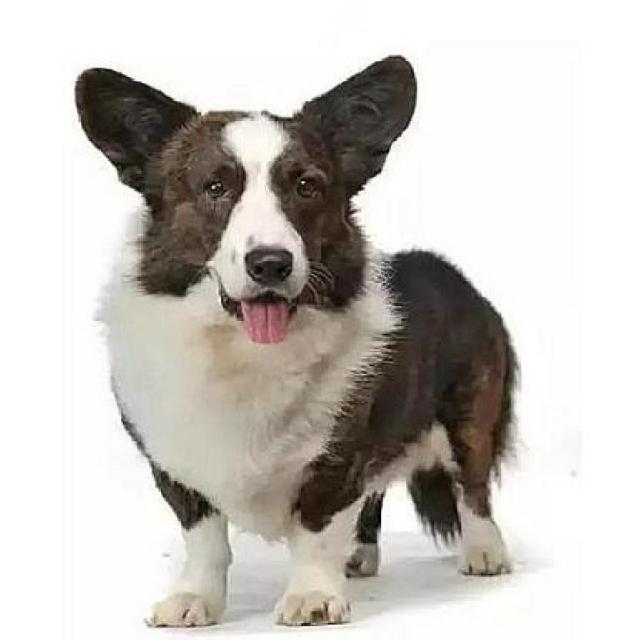Dog: (66, 47, 526, 638)
